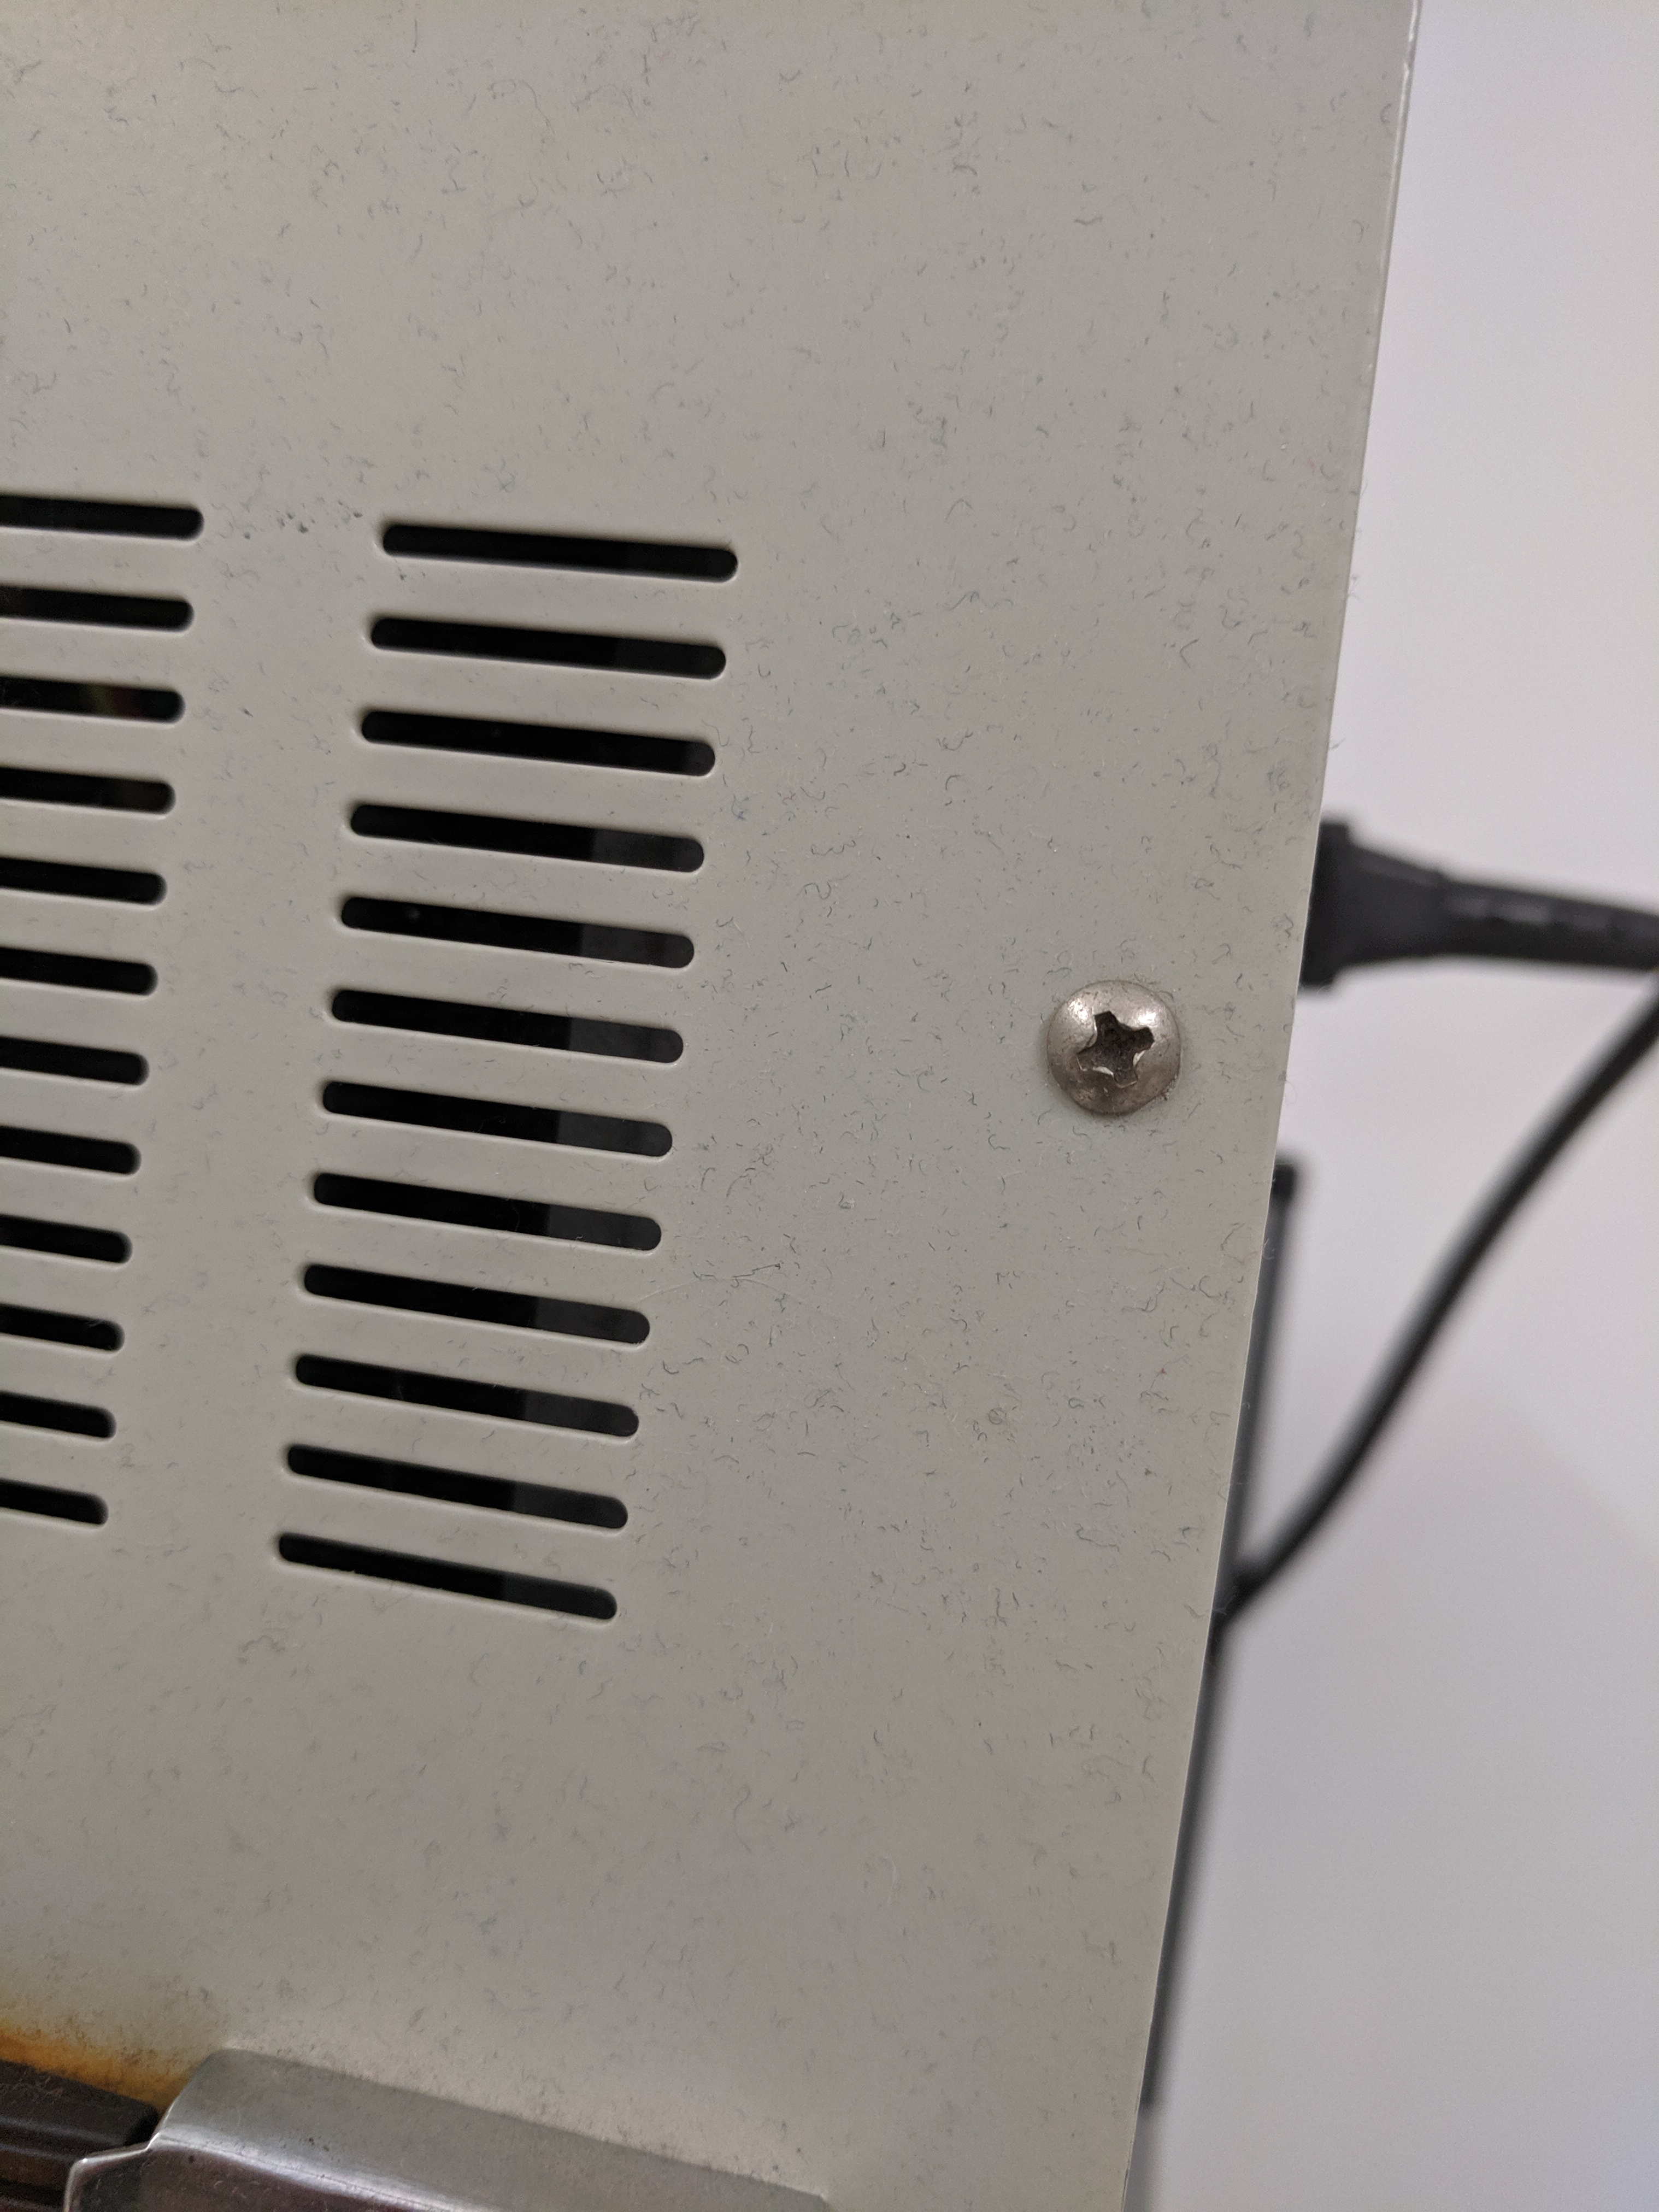cross_recessed_screw: (653, 808, 742, 897), (730, 1885, 817, 1975)
